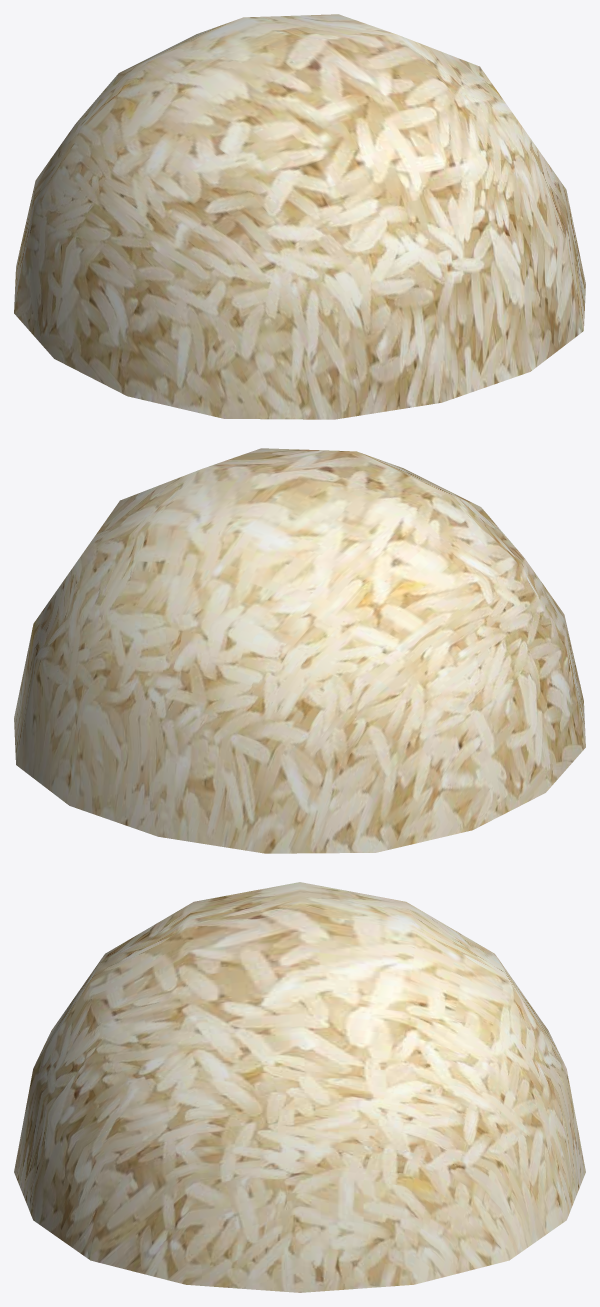
File: ARROZ FINAL.fbx
3 renders of one model, top to bottom at view 1: azimuth 30°, elevation 25°; view 2: azimuth 150°, elevation 25°; view 3: azimuth 270°, elevation 25°, orthographic.
Visible parts, largest first — view 1: Box008; view 2: Box008; view 3: Box008.
Part boxes in pixels (x1,y1,x2,y2): Box008: [14, 14, 585, 419]; Box008: [14, 448, 585, 853]; Box008: [14, 882, 585, 1292].
Size of the model in its own units: 6.57 by 3.29 by 6.57.
1 material, 1 textured.
